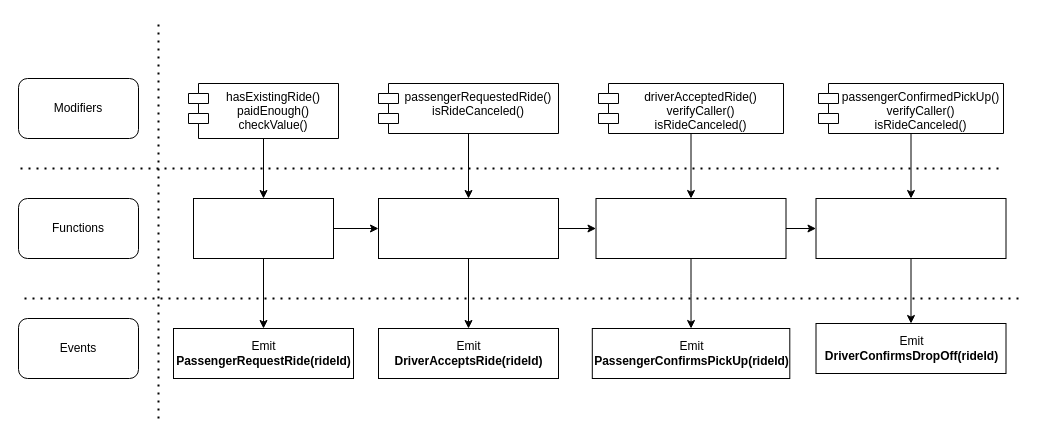
Image size: 1037x437. Some labels were removed from this diagram. Here are the shapes that lost their labels. From the top down, the centre of each, then its label:
the point at 263,228: passengerRequestRide()
the point at 468,228: driverAcceptsRide()
the point at 690,228: passengerConfirmsPickUp()
the point at 910,228: driverConfirmsDropOff()
